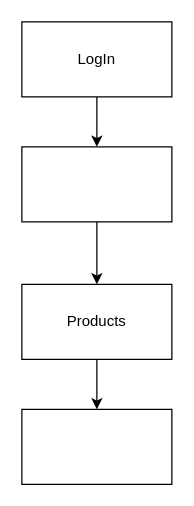
Some shapes in this 194 by 506 pixel diagram are drawn without their labels. Here are the shapes that lost their labels. From the top down, the centre of each, then its label:
At point (96, 184): "Homepage".
At point (96, 446): "Payments".
